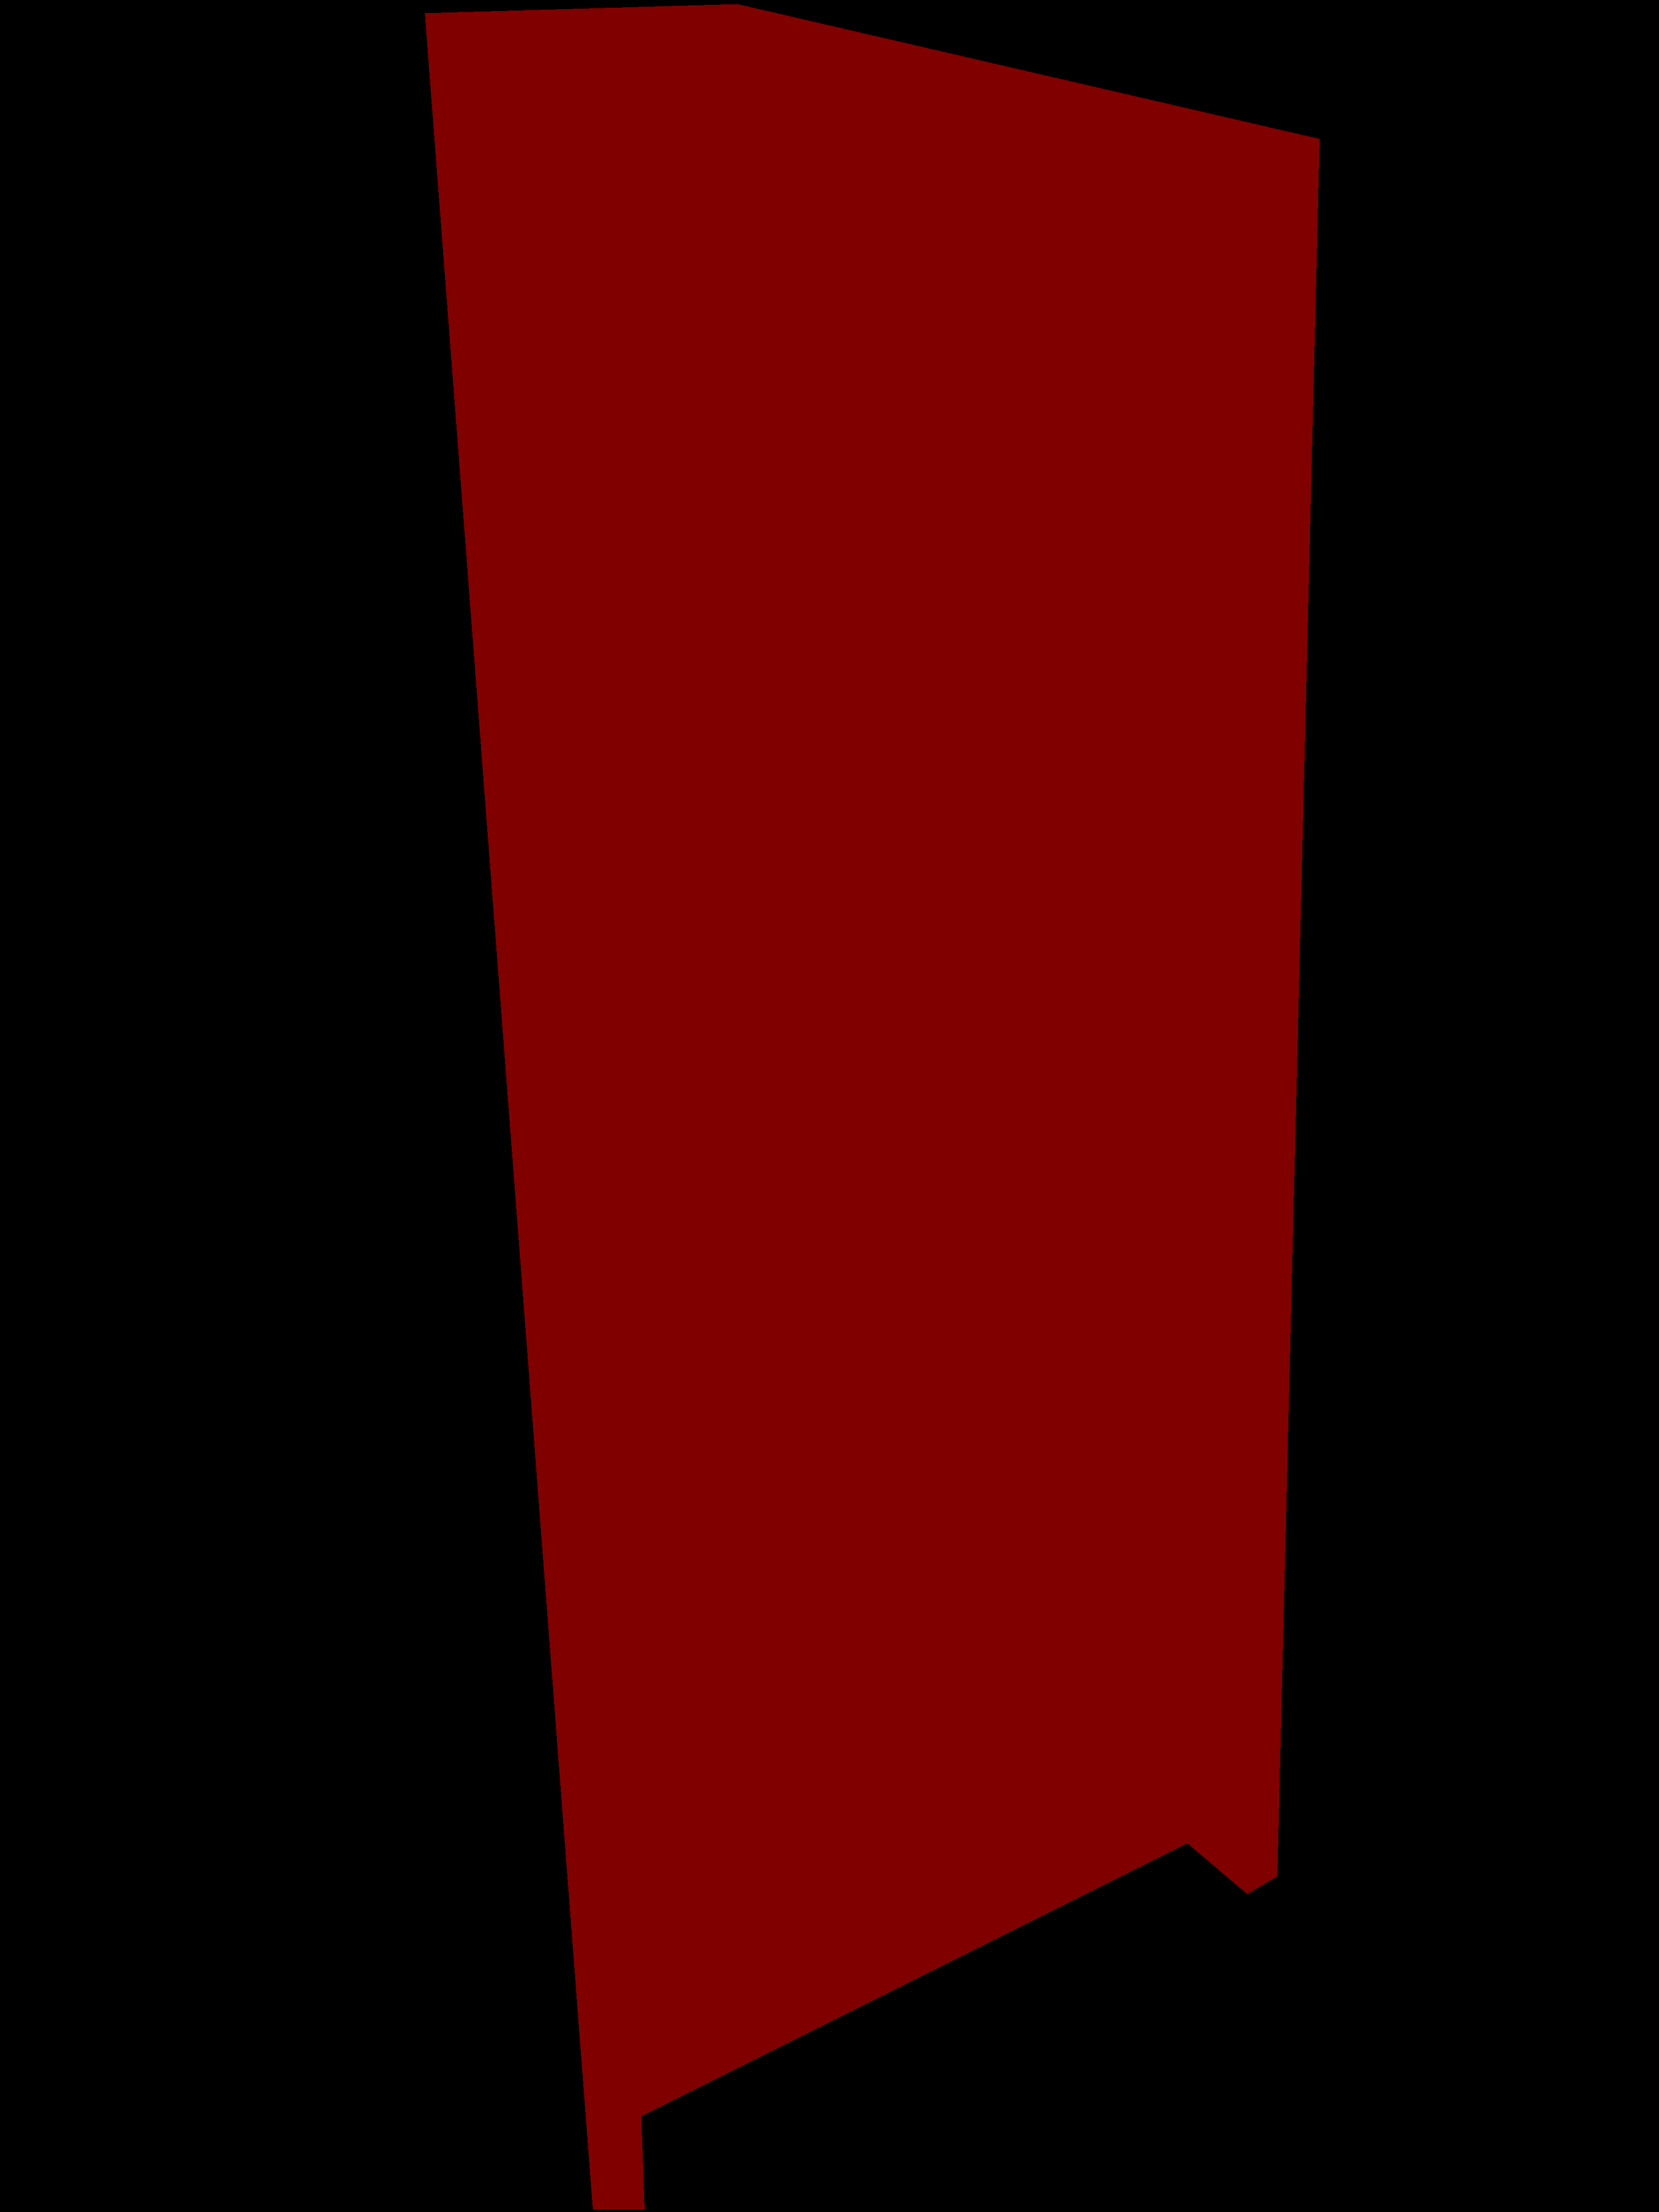door: (425, 3, 1319, 2209)
